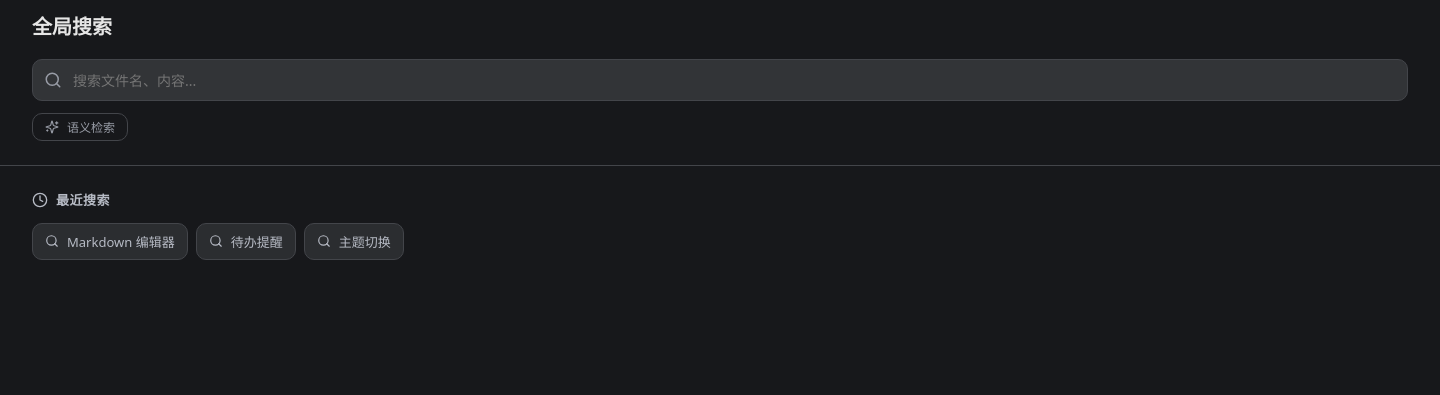
Test case: SearchView › 默认按相关性排序，切到「按最近修改」后改按时间倒序
In the field with test id "search-input": (720, 80) x1=32 y1=59 x2=1408 y2=101, type "关键词"
Wait 300 ms
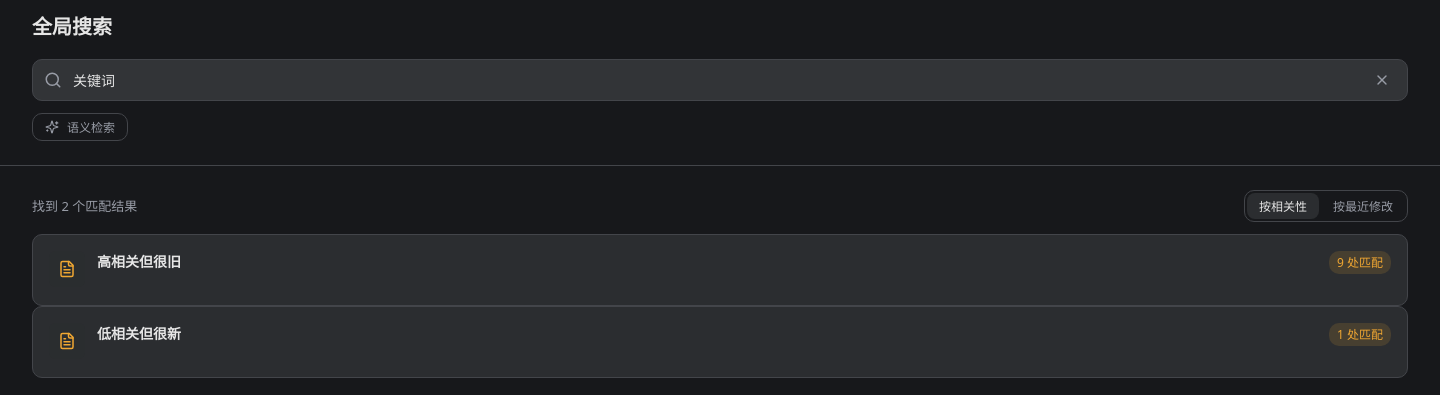
Now the element with test id "search-result" shows "高相关但很旧", box x1=97 y1=252 x2=181 y2=271
Click the button with test id "sort-recent": (1363, 206) x1=1321 y1=193 x2=1405 y2=219
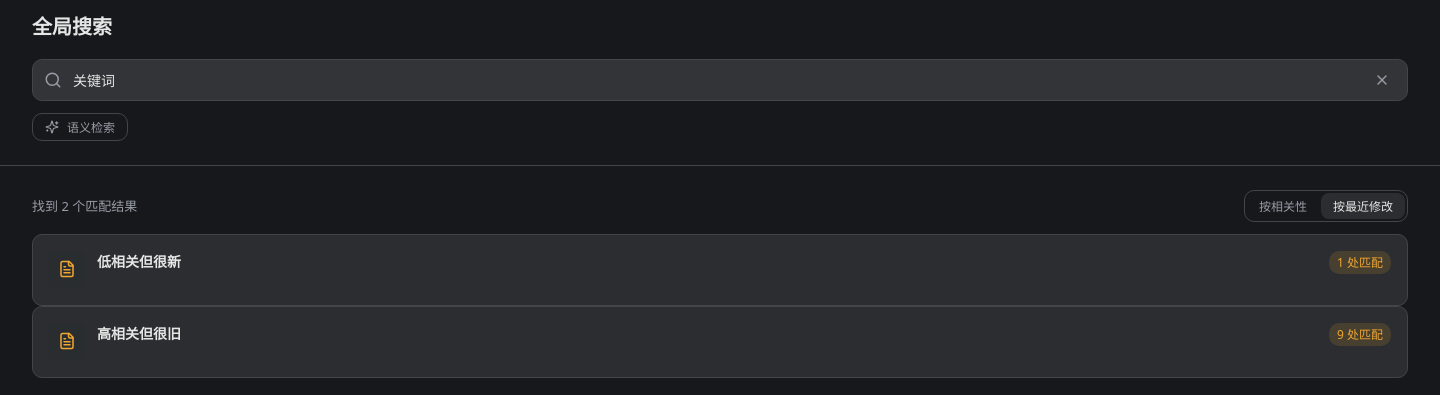
Now the element with test id "search-result" shows "低相关但很新", box x1=97 y1=252 x2=181 y2=271
